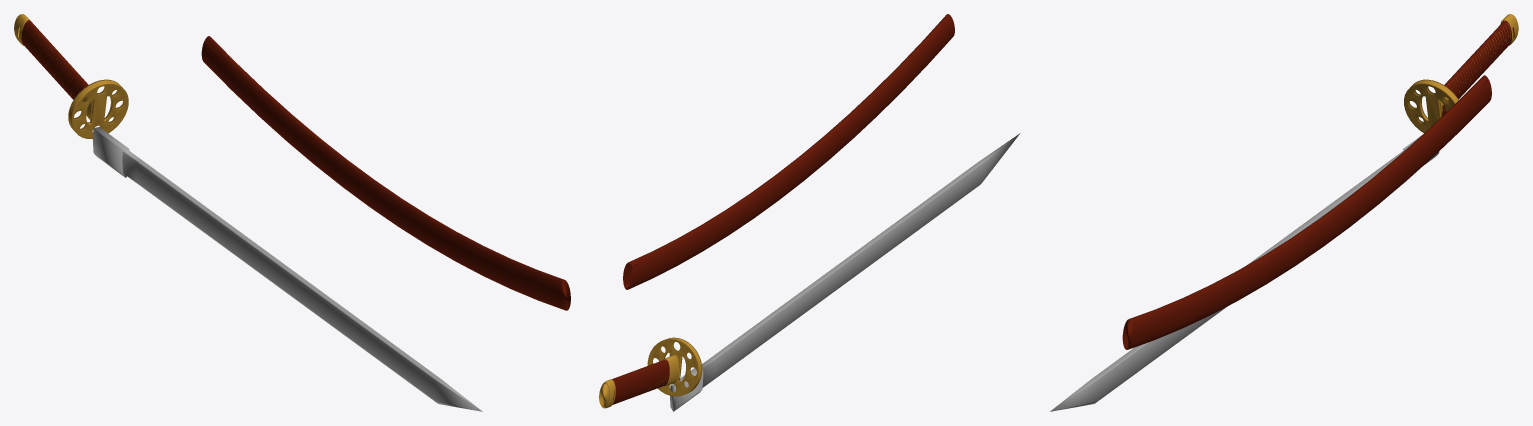
The model's file is katana_V2.glb.
3 views of the same model, side by side, from view 1: azimuth 30°, elevation 25°; view 2: azimuth 150°, elevation 25°; view 3: azimuth 330°, elevation 25° (orthographic). The views are drawn at different scales.
Visible parts, largest first — view 1: Cylinder.003, Hoja, Cylinder.006, Plane.035; view 2: Cylinder.003, Hoja, Cylinder.006, Plane.035, Cylinder.005; view 3: Cylinder.003, Hoja, Plane.035, Cylinder.006.
Part boxes in pixels (left/top/right/bottom): Cylinder.003: left=201, top=36, right=570, bottom=310; Hoja: left=92, top=127, right=482, bottom=411; Cylinder.006: left=68, top=79, right=128, bottom=138; Plane.035: left=21, top=20, right=88, bottom=99; Cylinder.003: left=623, top=14, right=954, bottom=289; Hoja: left=670, top=133, right=1020, bottom=411; Cylinder.006: left=647, top=337, right=702, bottom=396; Plane.035: left=612, top=359, right=669, bottom=404; Cylinder.005: left=599, top=379, right=615, bottom=408; Cylinder.003: left=1122, top=75, right=1491, bottom=349; Hoja: left=1050, top=136, right=1439, bottom=411; Plane.035: left=1442, top=20, right=1514, bottom=116; Cylinder.006: left=1404, top=79, right=1458, bottom=132.
Bounding box in the file's own units: 1.26 × 1.47 × 8.94.
